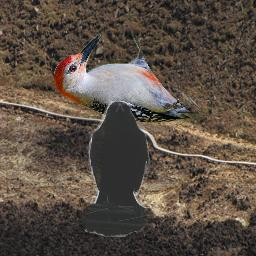Crow: (85, 101, 151, 237)
Woodpecker: (54, 35, 200, 123)
